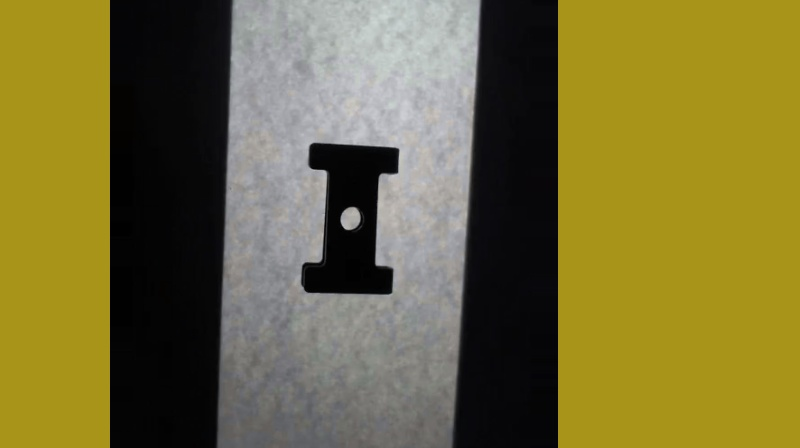O002: (297, 141, 402, 298)
